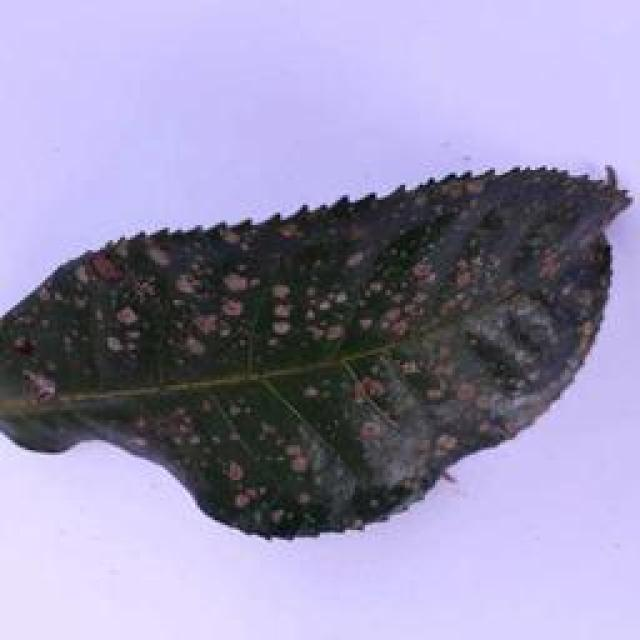Algal Leaf Spot: (2, 154, 640, 543)
